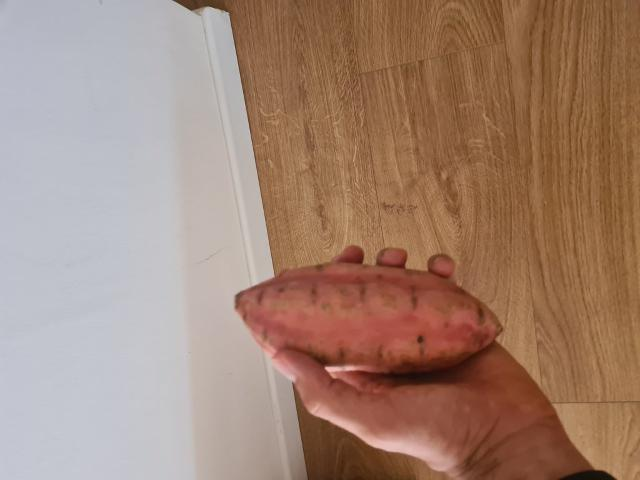sweet_potato: (231, 269, 510, 374)
